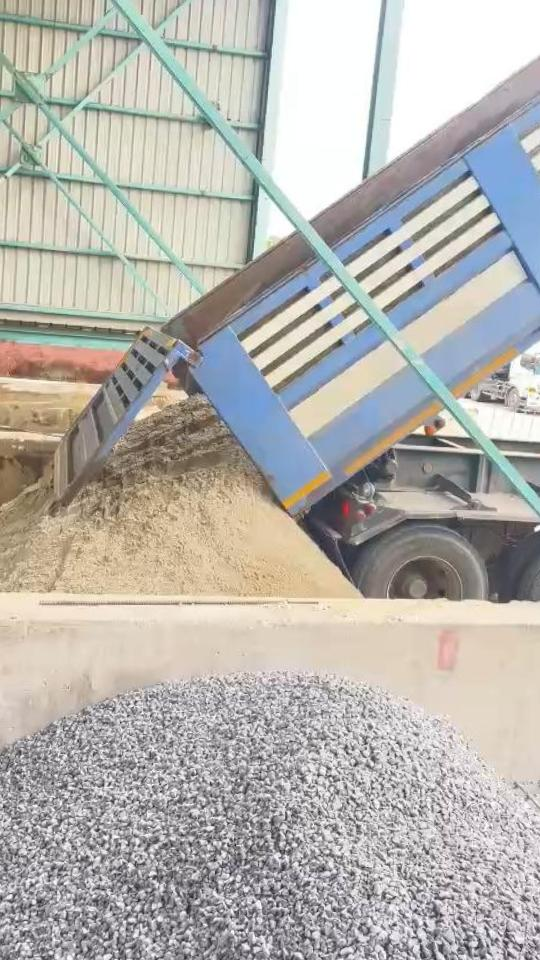gravel: (0, 674, 540, 960)
sand: (0, 398, 358, 598)
